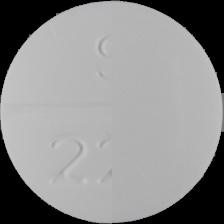10544-773: (0, 0, 224, 224)
